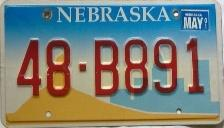1: (183, 35, 208, 95)
4: (15, 36, 44, 99)
8: (44, 37, 74, 99), (122, 36, 151, 96)
9: (151, 37, 179, 95)
B: (92, 37, 121, 98)
